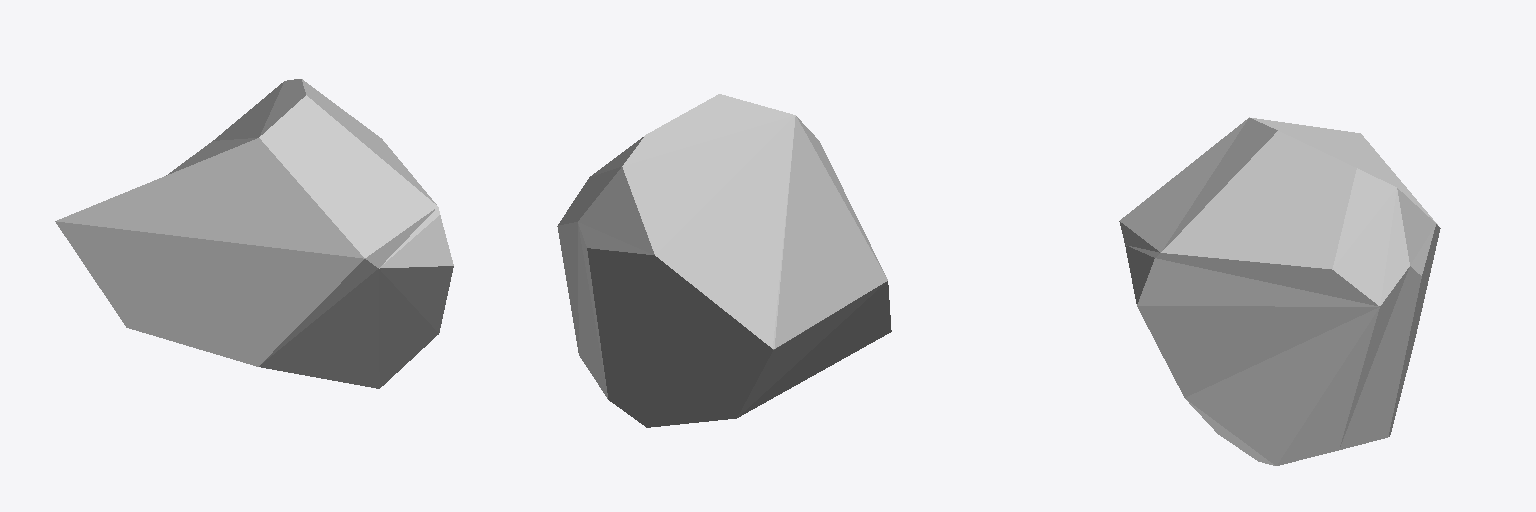
The model's file is Rock_4.obj.
The picture shows the model from 3 angles: view 1: azimuth 30°, elevation 25°; view 2: azimuth 150°, elevation 25°; view 3: azimuth 270°, elevation 25°; orthographic projection.
Parts seen in each view (by area): view 1: Cube.008_Cube.009; view 2: Cube.008_Cube.009; view 3: Cube.008_Cube.009.
Part boxes in pixels (bbox=[...]): Cube.008_Cube.009: bbox=[55, 79, 453, 388]; Cube.008_Cube.009: bbox=[557, 94, 891, 427]; Cube.008_Cube.009: bbox=[1119, 117, 1440, 465].
Bounding box in the file's own units: 0.7092 × 0.6307 × 0.6144.